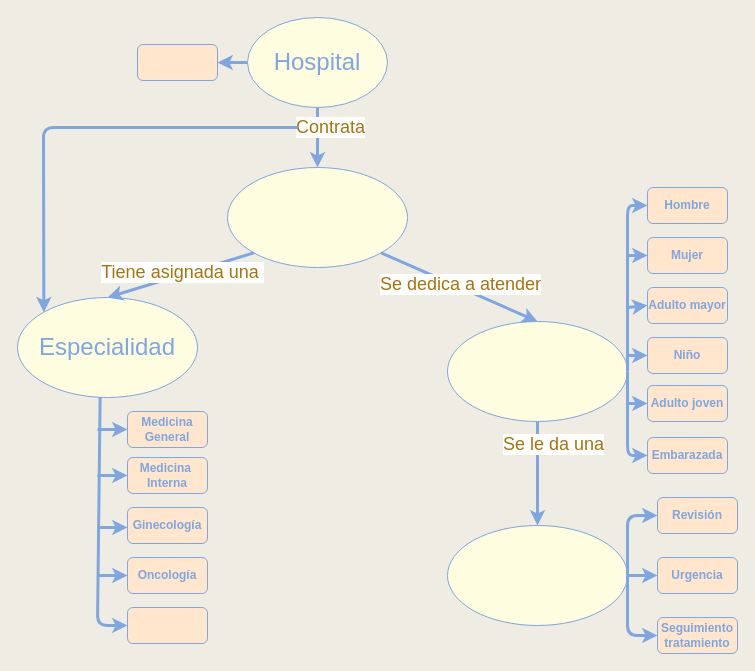
The diagram is 755 pixels wide and 671 high, and some of its shapes have lost their labels. Here are the shapes that lost their labels. From the top down, the centre of each, then its label:
At (x=177, y=62): "Hospital Dalinde".
At (x=317, y=217): "Medico".
At (x=537, y=371): "Paciente".
At (x=537, y=575): "Consulta".
At (x=167, y=625): "Cardiología".
